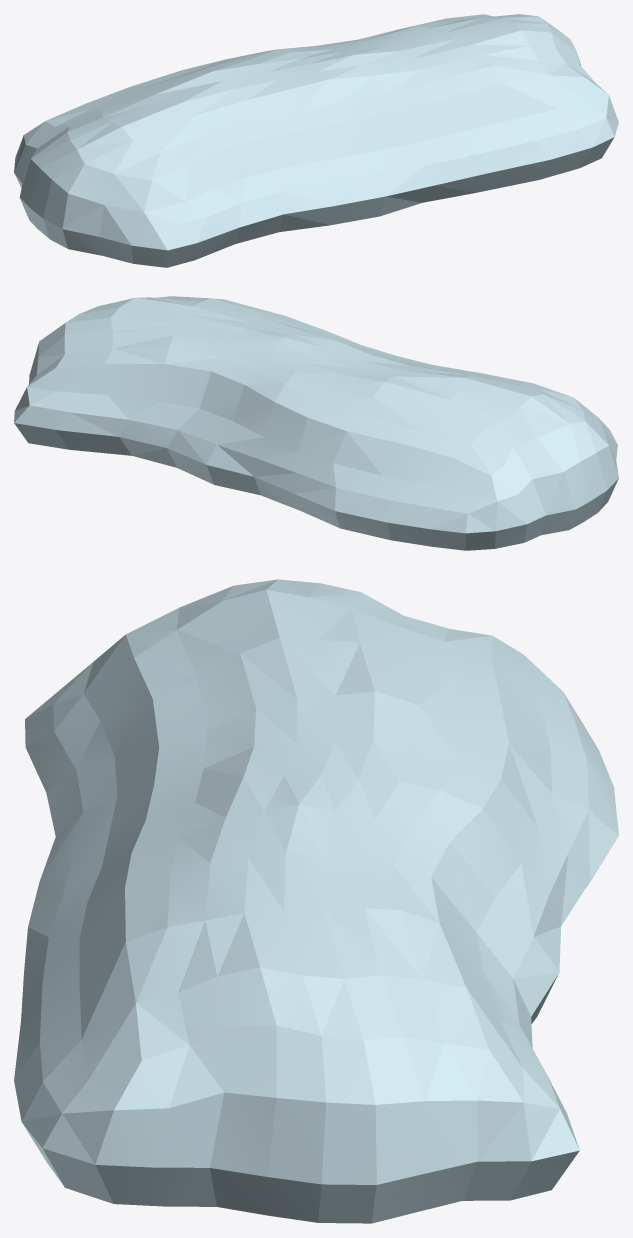
File: Monticulo02.glb
3 renders of one model, top to bottom at view 1: azimuth 30°, elevation 25°; view 2: azimuth 150°, elevation 25°; view 3: azimuth 270°, elevation 25°, orthographic. The views are drawn at different scales.
Parts seen in each view (by area): view 1: SM_Env_Dirt_Mound_02_Snow; view 2: SM_Env_Dirt_Mound_02_Snow; view 3: SM_Env_Dirt_Mound_02_Snow.
Boxes of the visible parts, x1,y1,x2,y2 form: SM_Env_Dirt_Mound_02_Snow: [14, 14, 618, 267]; SM_Env_Dirt_Mound_02_Snow: [14, 296, 618, 550]; SM_Env_Dirt_Mound_02_Snow: [14, 579, 618, 1223].
Size of the model in its own units: 14 by 2.55 by 6.83.
Materials: 1 (1 with a texture image).
